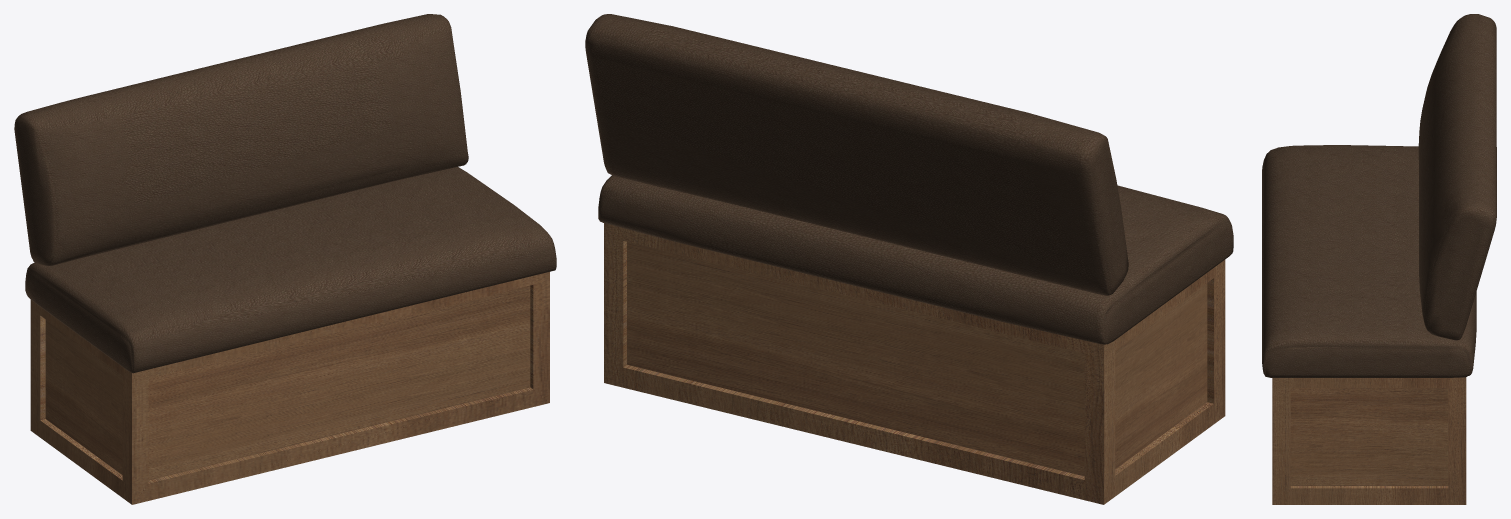
Rendered from Sofa.FBX.
3 views of the same model, side by side, from view 1: azimuth 30°, elevation 25°; view 2: azimuth 150°, elevation 25°; view 3: azimuth 270°, elevation 25° (orthographic). The views are drawn at different scales.
Parts seen in each view (by area): view 1: sofa; view 2: sofa; view 3: sofa.
Boxes of the visible parts, left/top/right/bottom form: sofa: left=14, top=14, right=556, bottom=504; sofa: left=585, top=14, right=1233, bottom=504; sofa: left=1262, top=14, right=1496, bottom=504.
Size of the model in its own units: 133 by 93.26 by 66.36.
Materials: 2 (2 with a texture image).
